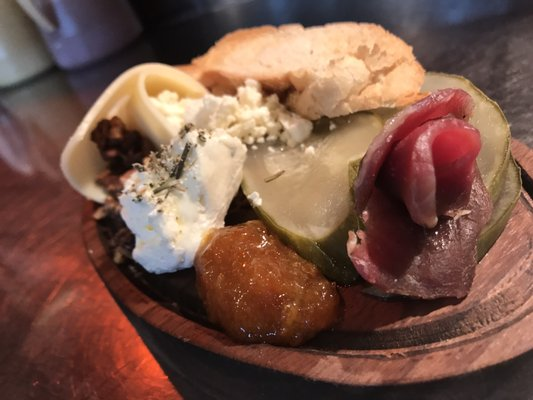pizza: (16, 0, 145, 73)
soup: (64, 22, 522, 369)
sushi: (56, 7, 533, 393)
